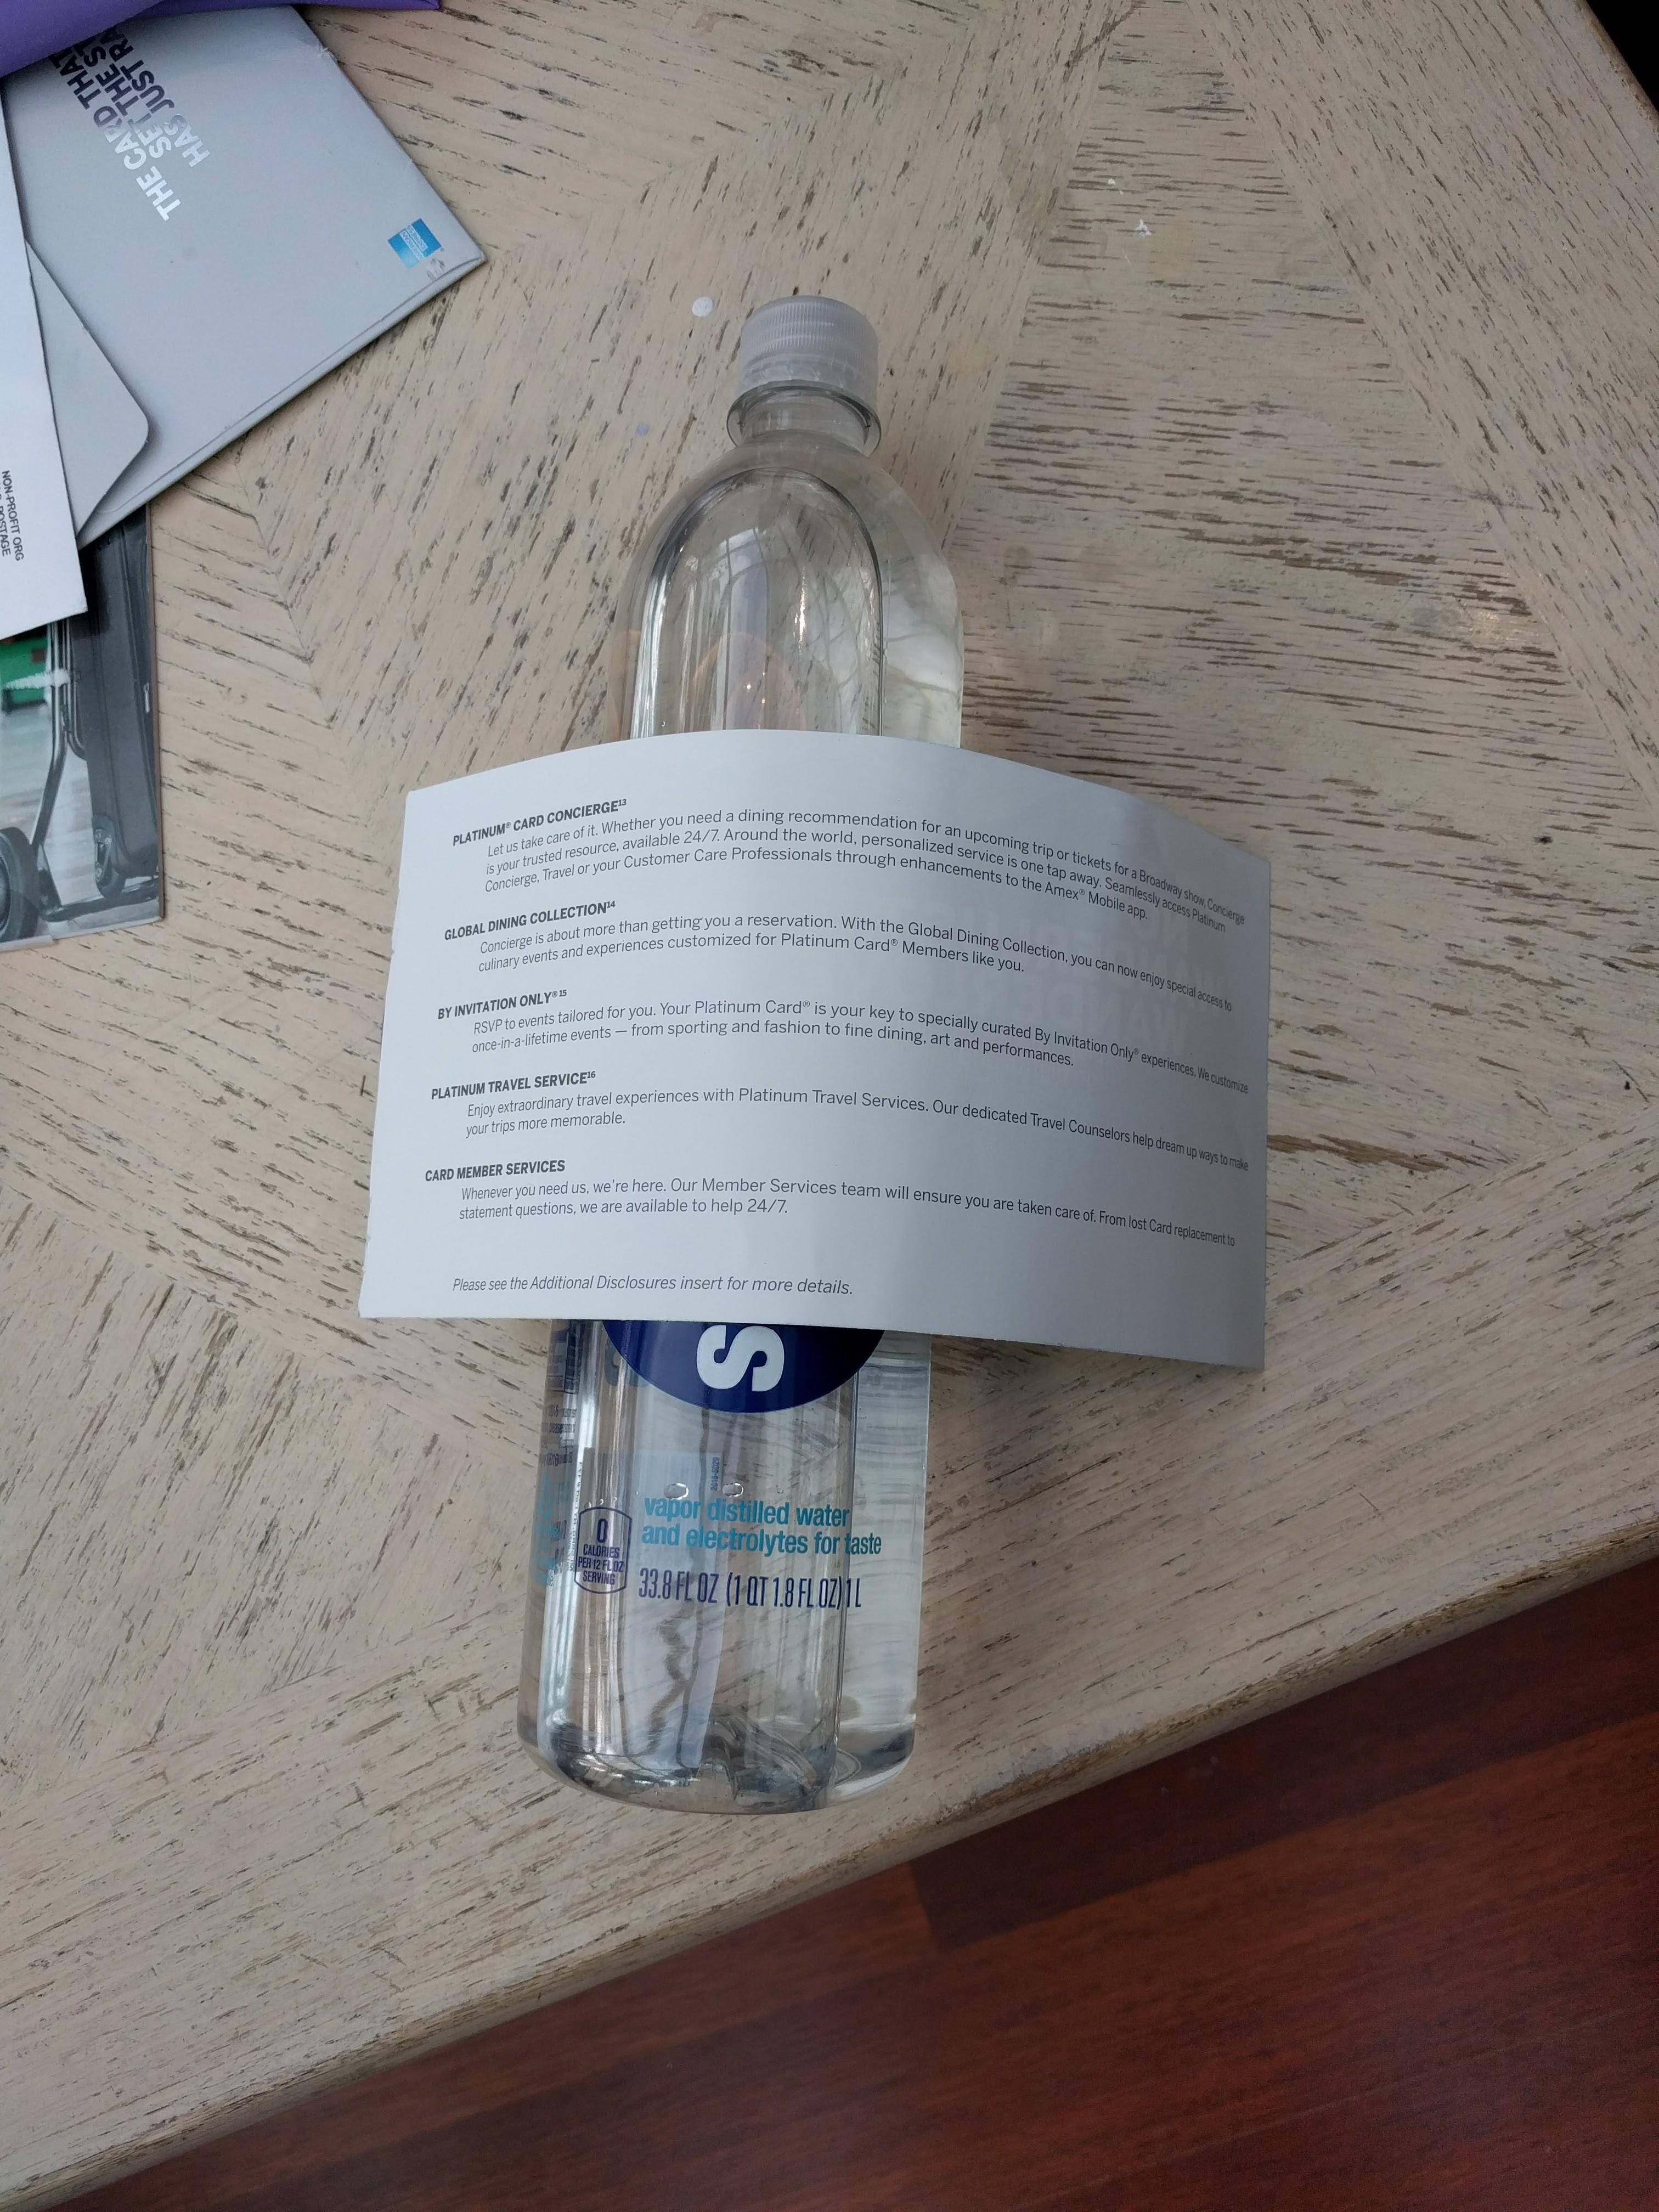paper: (305, 697, 1425, 1468)
